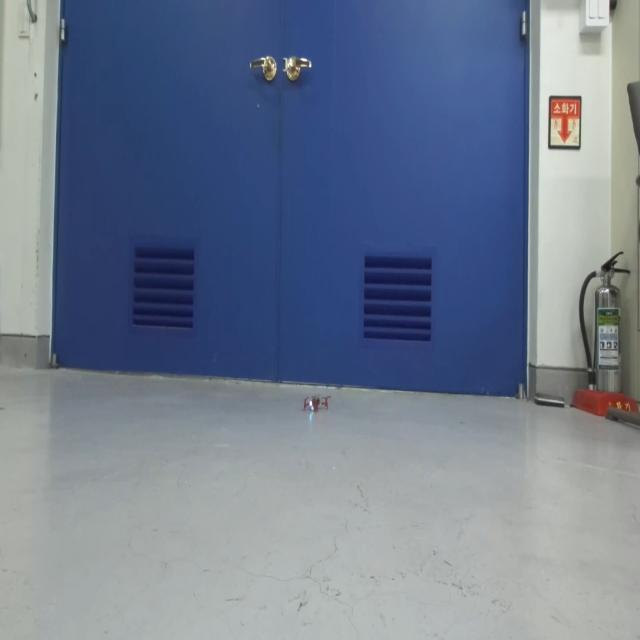crazyflie: (301, 393, 331, 418)
